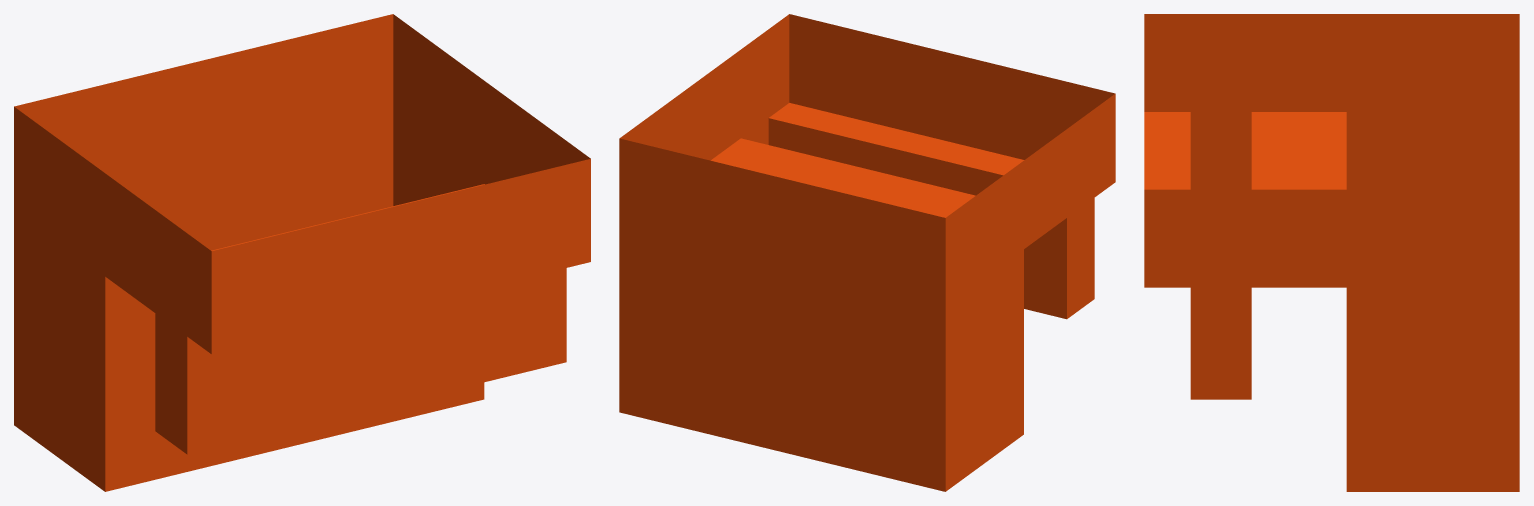
Rendered from Hair Female For Hat 01.FBX.
The picture shows the model from 3 angles, left to right: view 1: azimuth 30°, elevation 25°; view 2: azimuth 150°, elevation 25°; view 3: azimuth 270°, elevation 25°; orthographic projection. The views are drawn at different scales.
Parts seen in each view (by area): view 1: Hair Female For Hat 01; view 2: Hair Female For Hat 01; view 3: Hair Female For Hat 01.
Boxes of the visible parts, left/top/right/bottom form: Hair Female For Hat 01: left=14, top=14, right=590, bottom=491; Hair Female For Hat 01: left=619, top=14, right=1115, bottom=491; Hair Female For Hat 01: left=1144, top=14, right=1519, bottom=491.
Bounding box in the file's own units: 52.09 × 41.83 × 47.04.
1 material, 1 textured.
